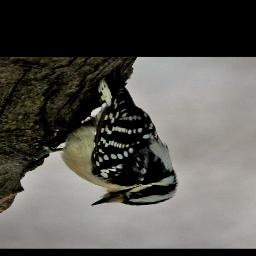Woodpecker: (21, 62, 181, 209)
